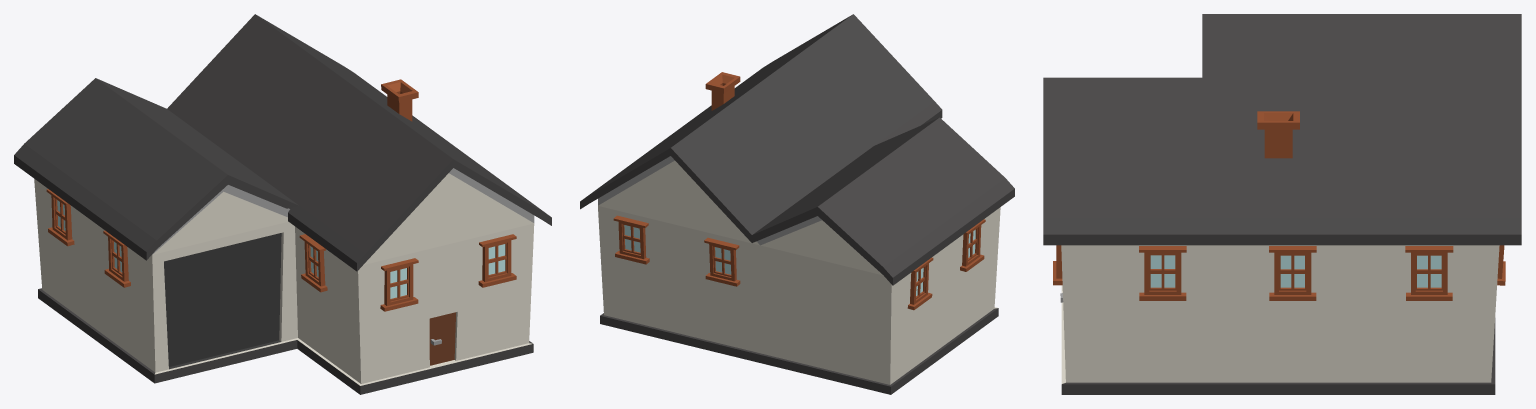
File: House5.glb
3 renders of one model, left to right at view 1: azimuth 30°, elevation 25°; view 2: azimuth 150°, elevation 25°; view 3: azimuth 270°, elevation 25°, orthographic. The views are drawn at different scales.
Visible parts, largest first — view 1: House5; view 2: House5; view 3: House5.
Boxes of the visible parts, box(x1,y1,x2,y2) form: House5: box(14, 14, 551, 394); House5: box(580, 14, 1014, 394); House5: box(1043, 14, 1521, 394).
Size of the model in its own units: 2.16 by 1.34 by 2.19.
